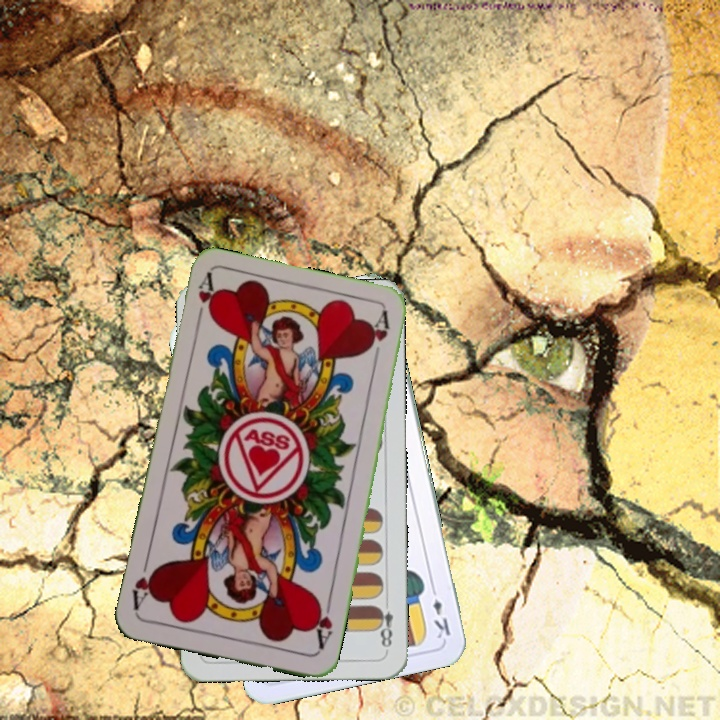E8: (372, 594, 396, 653)
EK: (427, 582, 453, 641)
HA: (192, 271, 220, 330), (309, 594, 336, 653)
